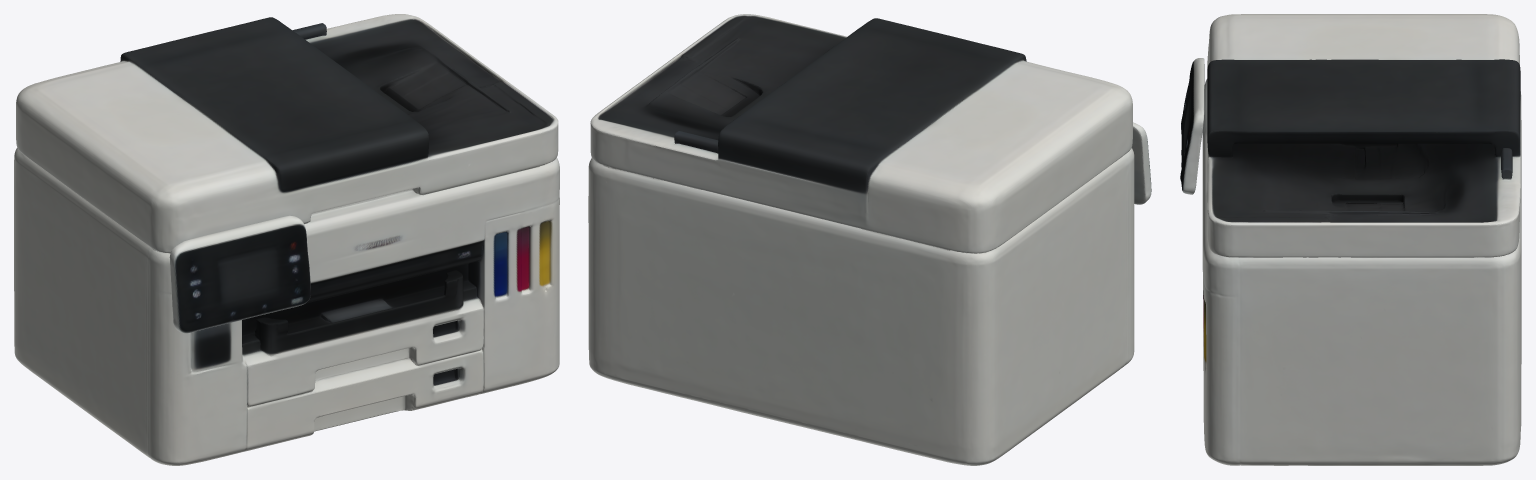
The model's file is printer-dense.glb.
The picture shows the model from 3 angles, left to right: view 1: azimuth 30°, elevation 25°; view 2: azimuth 150°, elevation 25°; view 3: azimuth 270°, elevation 25°; orthographic projection. The views are drawn at different scales.
Size of the model in its own units: 1.89 by 1.26 by 1.41.
1 material, 1 textured.
